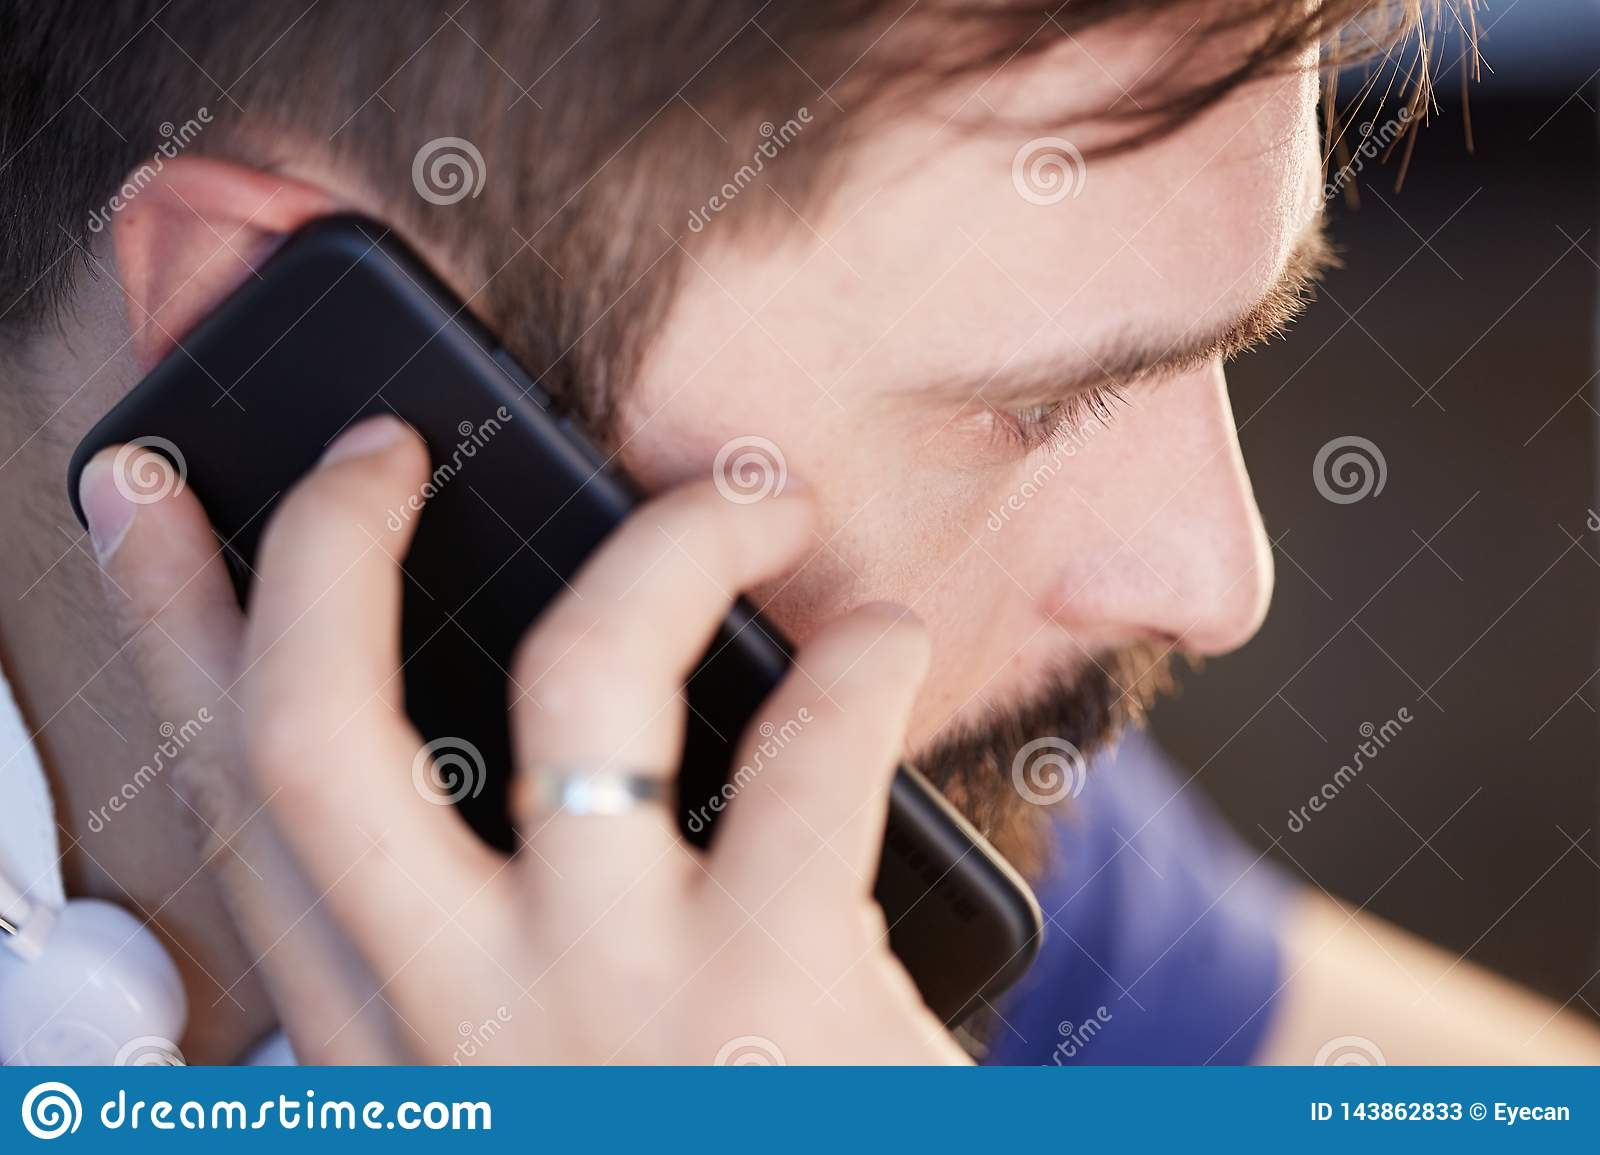phone: (71, 211, 1039, 1054)
